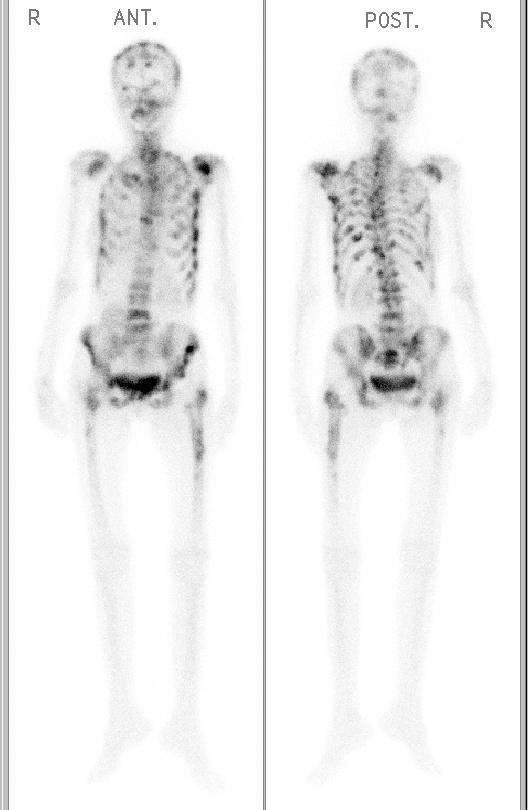person: (7, 1, 520, 810)
